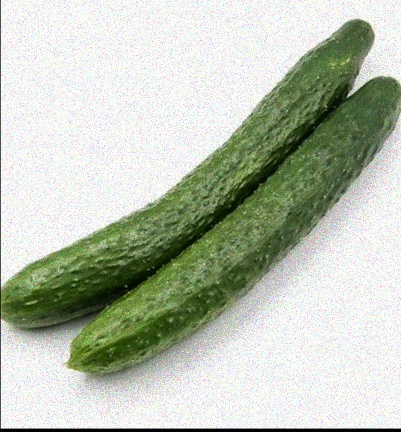cucumber: (2, 26, 376, 329), (72, 70, 398, 375)
